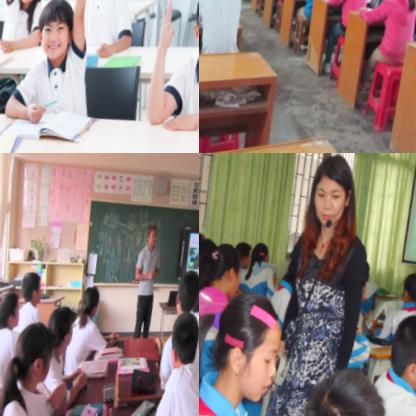head: (202, 288, 287, 406), (280, 352, 399, 416), (303, 156, 359, 230), (4, 319, 57, 397), (377, 316, 416, 407), (26, 0, 78, 65), (199, 241, 244, 305), (35, 302, 78, 365), (159, 310, 199, 375), (164, 266, 199, 331), (12, 268, 45, 313), (180, 0, 199, 77), (72, 283, 102, 328), (0, 286, 22, 340), (393, 272, 416, 318), (245, 240, 272, 276), (228, 238, 252, 274), (199, 241, 215, 285), (184, 281, 199, 325), (139, 224, 159, 253), (8, 0, 45, 11), (199, 224, 206, 270)
